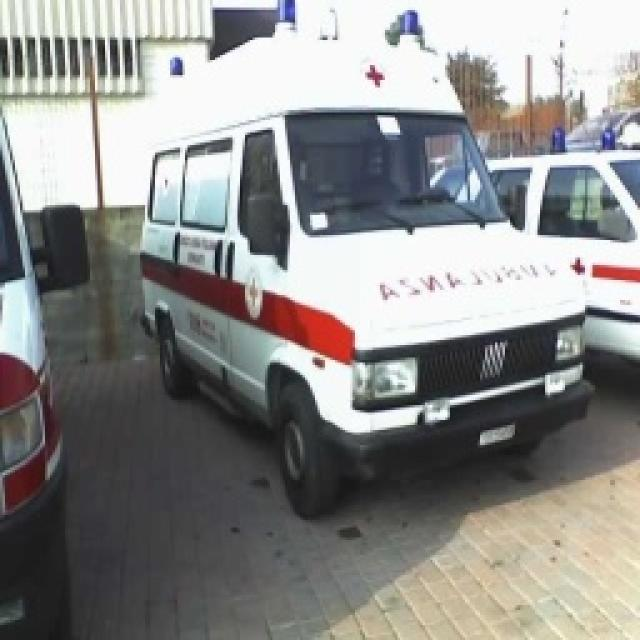emergency-vehicle: (135, 22, 589, 493), (489, 130, 640, 402)
